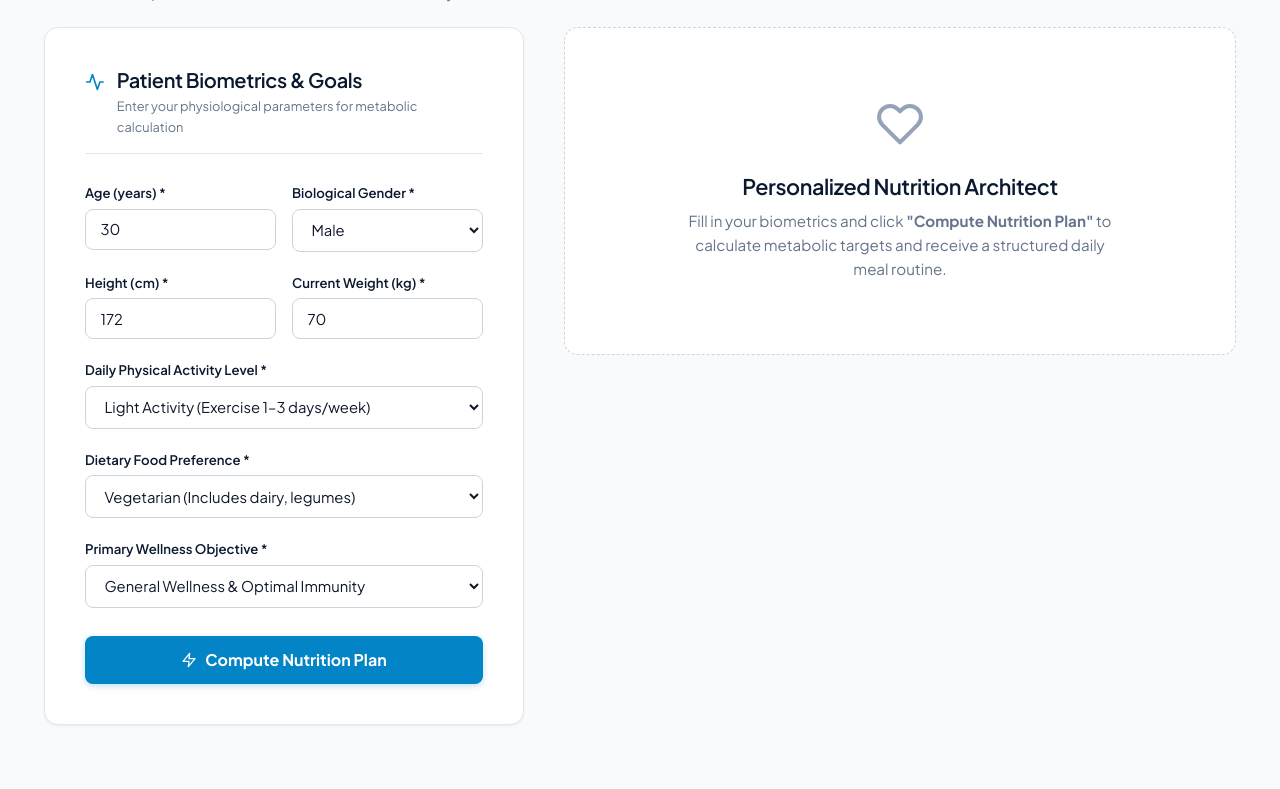
Test: Vaidyasthana Healthcare Modules Test Suite › DietResultPage computes nutritional targets and displays clinical disclaimer
(page scrolled)
Click the button "Compute Nutrition Plan" at (284, 660), box [85,636,483,684]
(page scrolled)
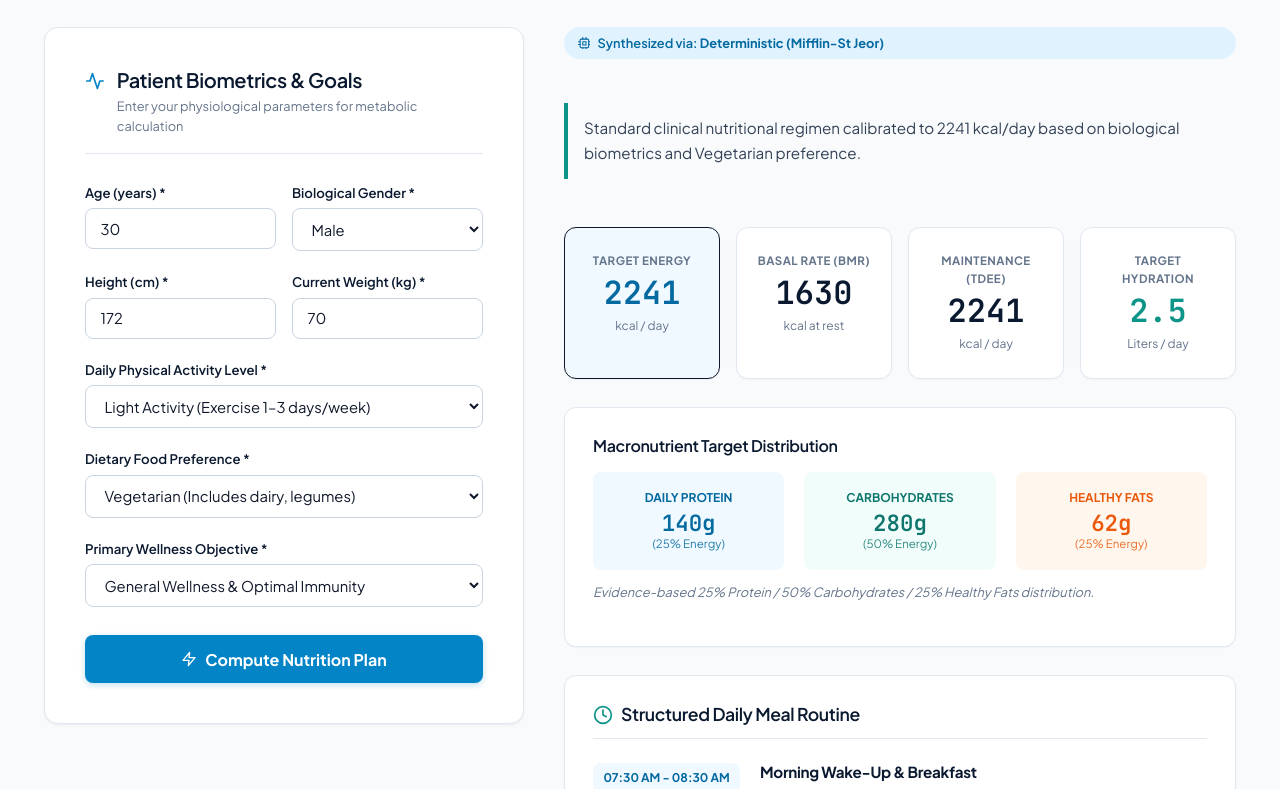
Check: the heading "Structured Daily Meal Routine" is shown, box [621,704,860,726]
Check: the text "Target Energy" is shown, box [585,252,699,270]
Check: the text "Daily Protein" is shown, box [645,488,732,507]
